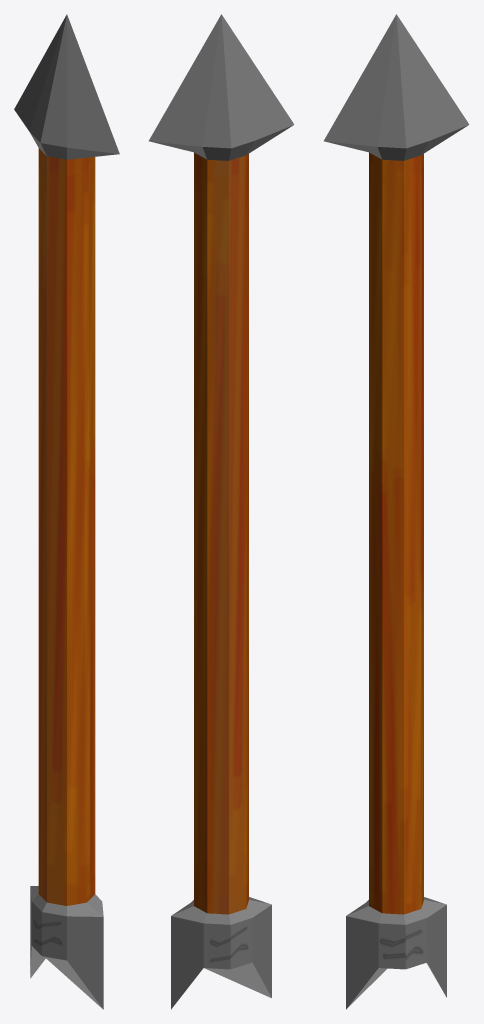
File: Arrows.fbx
3 views of the same model, side by side, from view 1: azimuth 90°, elevation 25°; view 2: azimuth 150°, elevation 25°; view 3: azimuth 330°, elevation 25° (orthographic).
Parts seen in each view (by area): view 1: Cylinder; view 2: Cylinder; view 3: Cylinder.
Part boxes in pixels (left/top/right/bottom): Cylinder: left=14, top=14, right=119, bottom=1009; Cylinder: left=149, top=14, right=294, bottom=1009; Cylinder: left=324, top=14, right=469, bottom=1009.
Size of the model in its own units: 0.3775 by 3.86 by 0.3775.
